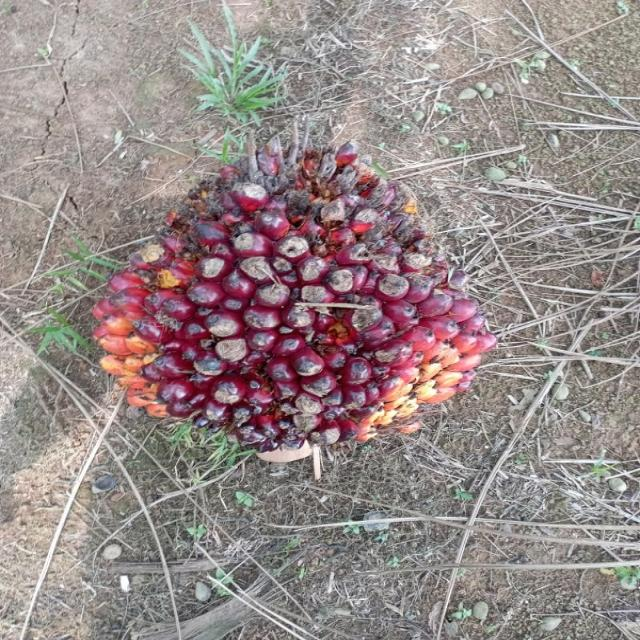fraksi 3: (88, 152, 494, 445)
